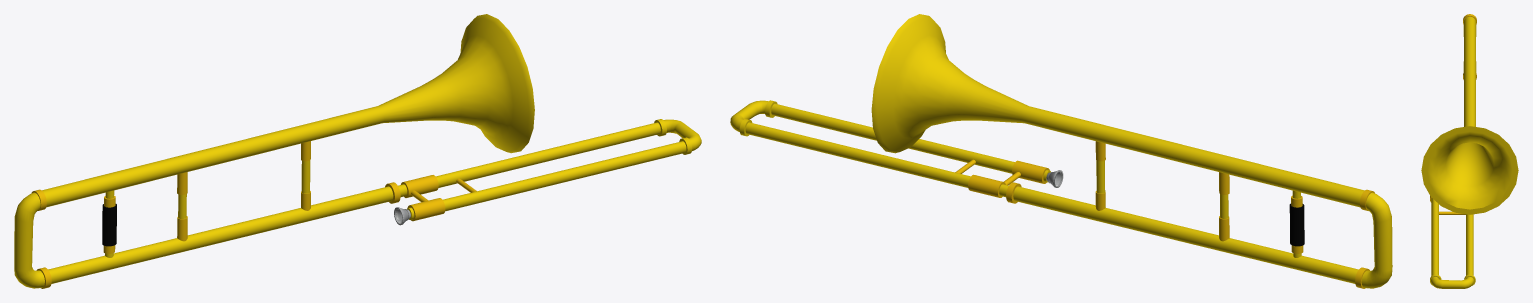
The model's file is Trombone.fbx.
3 renders of one model, left to right at view 1: azimuth 30°, elevation 25°; view 2: azimuth 150°, elevation 25°; view 3: azimuth 270°, elevation 25°, orthographic. The views are drawn at different scales.
Parts seen in each view (by area): view 1: pCone3, pCylinder2, pCylinder16, pCylinder14, pTorus1, pCylinder8, pCylinder18, pCylinder19, pTorus2; view 2: pCone3, pCylinder2, pCylinder14, pCylinder16, pTorus1, pCylinder8, pCylinder19, pCylinder18, pTorus2; view 3: pCone3, pCylinder16, pCylinder14, pTorus2, pCylinder21.
Boxes of the visible parts, left/top/right/bottom form: pCone3: left=42, top=14, right=534, bottom=207; pCylinder2: left=48, top=186, right=393, bottom=283; pCylinder16: left=407, top=141, right=686, bottom=219; pCylinder14: left=398, top=122, right=660, bottom=196; pTorus1: left=14, top=192, right=44, bottom=288; pCylinder8: left=102, top=204, right=116, bottom=246; pCylinder18: left=407, top=198, right=445, bottom=221; pCylinder19: left=401, top=175, right=438, bottom=197; pTorus2: left=663, top=119, right=701, bottom=150; pCone3: left=871, top=14, right=1364, bottom=207; pCylinder2: left=1013, top=186, right=1358, bottom=283; pCylinder14: left=745, top=122, right=1008, bottom=197; pCylinder16: left=771, top=103, right=1050, bottom=182; pTorus1: left=1361, top=192, right=1392, bottom=288; pCylinder8: left=1289, top=203, right=1304, bottom=246; pCylinder19: left=968, top=174, right=1005, bottom=197; pCylinder18: left=1012, top=160, right=1049, bottom=183; pTorus2: left=730, top=100, right=768, bottom=131; pCone3: left=1421, top=16, right=1518, bottom=214; pCylinder16: left=1431, top=198, right=1438, bottom=275; pCylinder14: left=1466, top=214, right=1473, bottom=275; pTorus2: left=1431, top=277, right=1473, bottom=288; pCylinder21: left=1439, top=211, right=1465, bottom=214.
Bounding box in the file's own units: 10.92 × 2.48 × 2.04.
Materials: 4 (1 with a texture image).
